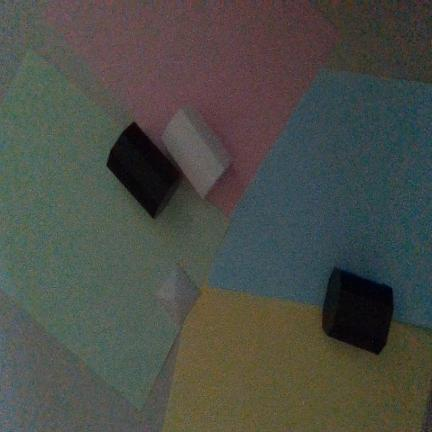Piramide: (152, 261, 202, 330)
Prisma_hexagonal: (106, 121, 182, 220), (160, 105, 233, 199), (322, 267, 393, 355)
